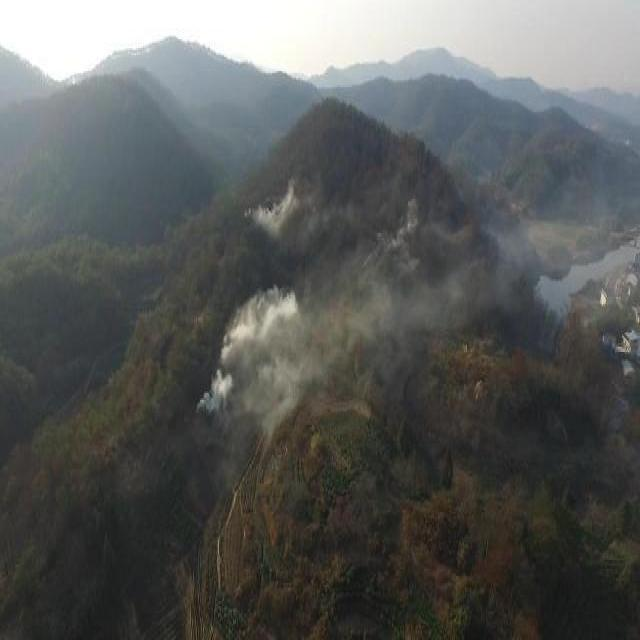Smoke: (196, 174, 533, 443)
